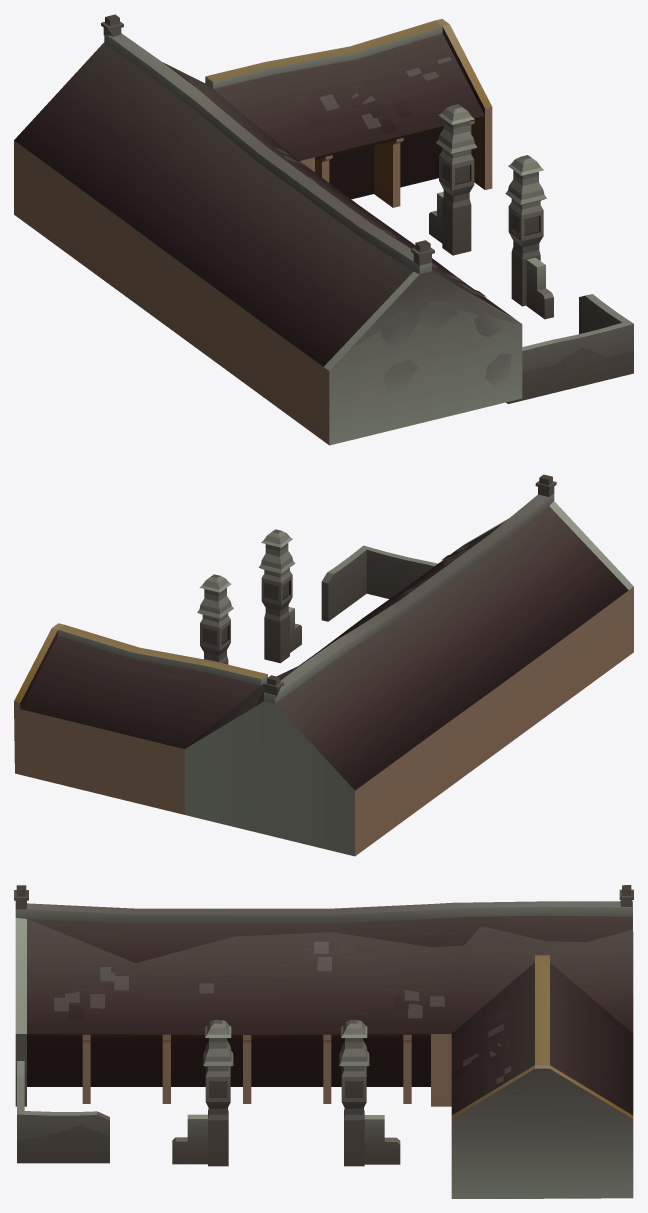
Rendered from SM_Traditionnal_House_01.fbx.
The picture shows the model from 3 angles, top to bottom: view 1: azimuth 30°, elevation 25°; view 2: azimuth 150°, elevation 25°; view 3: azimuth 270°, elevation 25°; orthographic projection. The views are drawn at different scales.
Visible parts, largest first — view 1: SM_Traditionnal_House_01; view 2: SM_Traditionnal_House_01; view 3: SM_Traditionnal_House_01.
Boxes of the visible parts, <box> form: SM_Traditionnal_House_01: <box>14,14,633,445</box>; SM_Traditionnal_House_01: <box>14,474,633,856</box>; SM_Traditionnal_House_01: <box>14,885,633,1198</box>.
Bounding box in the file's own units: 12 × 5.39 × 17.07.
